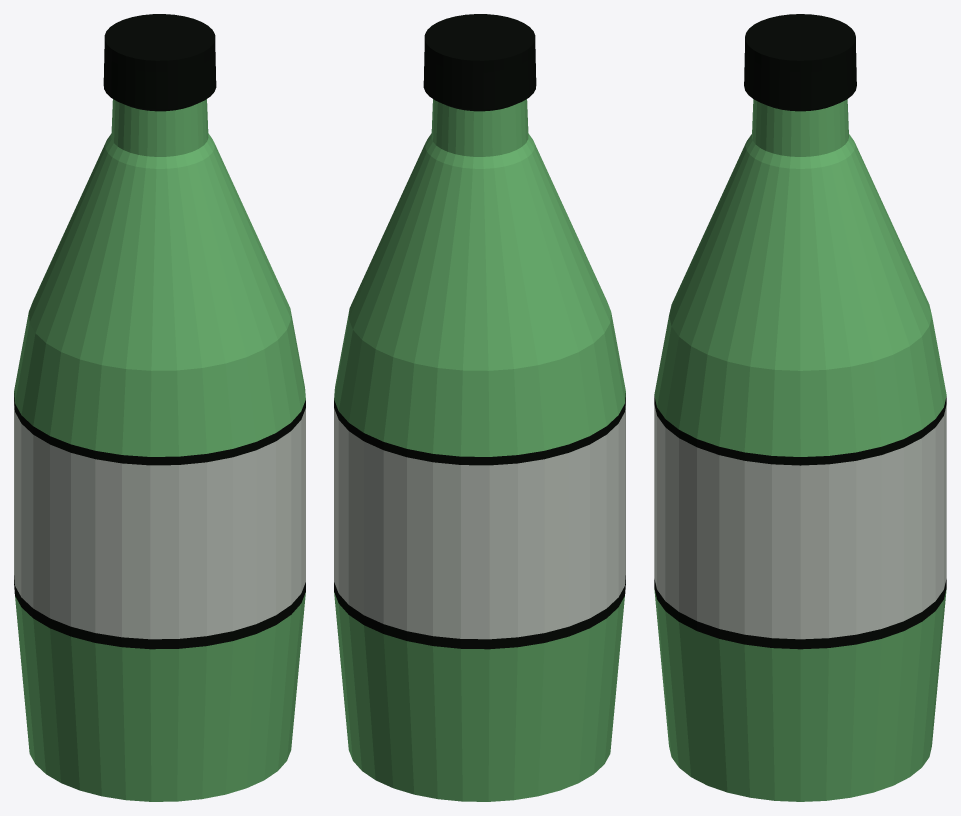
File: Flasche.dae
3 renders of one model, left to right at view 1: azimuth 30°, elevation 25°; view 2: azimuth 150°, elevation 25°; view 3: azimuth 270°, elevation 25°, orthographic.
Visible parts, largest first — view 1: Cylinder; view 2: Cylinder; view 3: Cylinder.
Boxes of the visible parts, box(x1,y1,x2,y2) form: Cylinder: box(14, 14, 305, 801); Cylinder: box(334, 14, 625, 801); Cylinder: box(654, 14, 946, 801).
Size of the model in its own units: 21.88 by 58.52 by 21.88.
